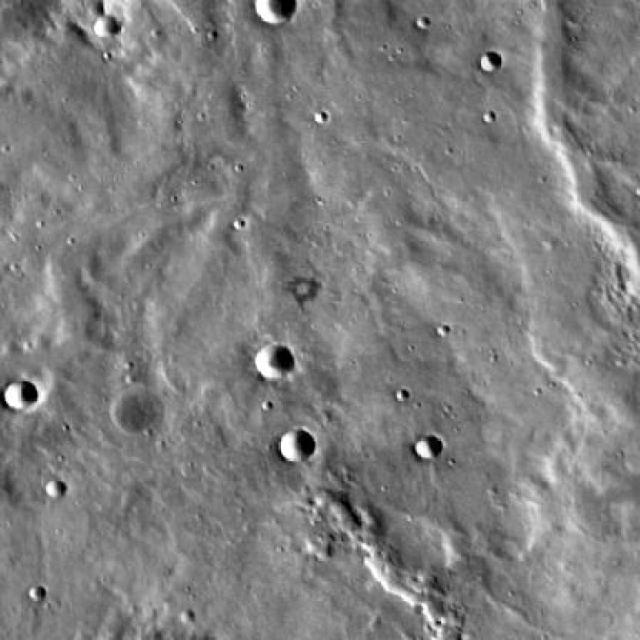crater: (252, 346, 296, 385), (278, 428, 316, 462), (257, 0, 295, 28), (3, 382, 37, 412), (93, 15, 121, 39), (417, 436, 443, 459), (47, 478, 71, 499), (481, 55, 502, 73)
